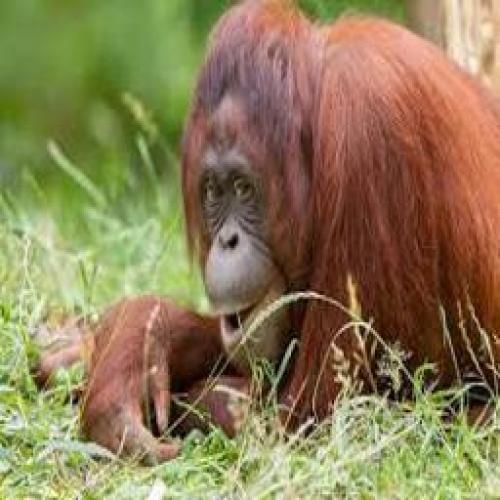orangutan-endangered: (106, 10, 495, 416)
